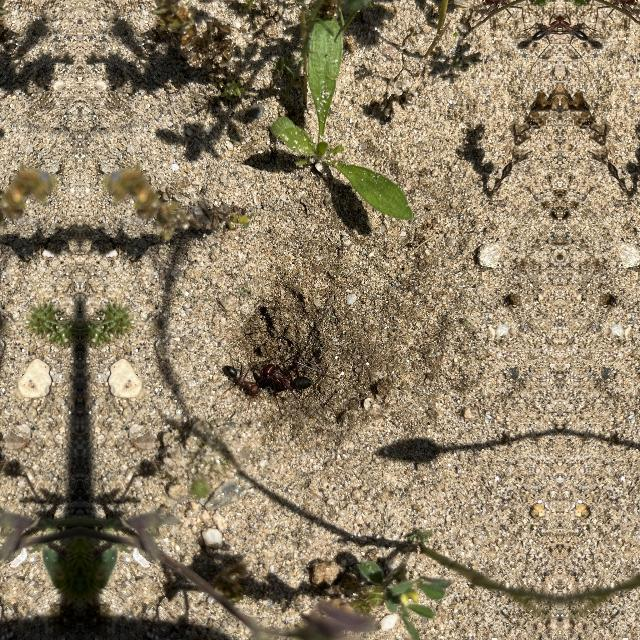Cataglyphis: (262, 353, 318, 401), (219, 357, 261, 401)
